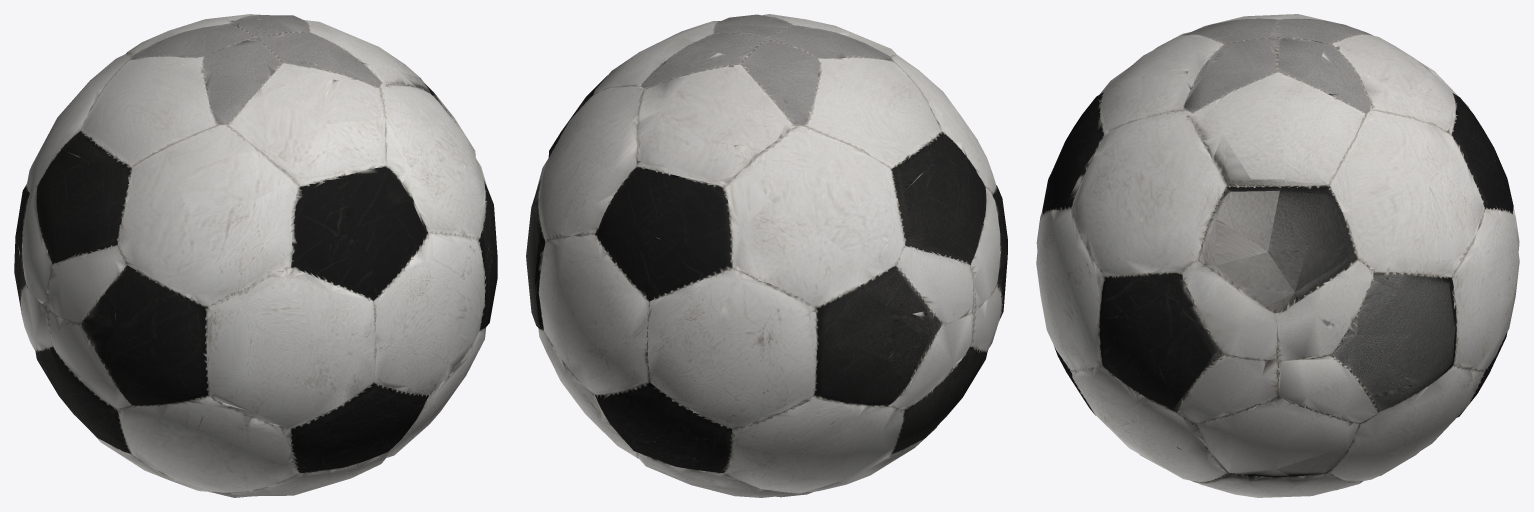
Rendered from ball.glb.
The picture shows the model from 3 angles, left to right: view 1: azimuth 30°, elevation 25°; view 2: azimuth 150°, elevation 25°; view 3: azimuth 270°, elevation 25°; orthographic projection.
Visible parts, largest first — view 1: Mesh_0; view 2: Mesh_0; view 3: Mesh_0.
Part boxes in pixels (x1,y1,x2,y2): Mesh_0: (14,14,497,497); Mesh_0: (526,14,1007,497); Mesh_0: (1036,14,1519,497).
Size of the model in its own units: 1.91 by 1.9 by 1.91.
Materials: 1 (1 with a texture image).
